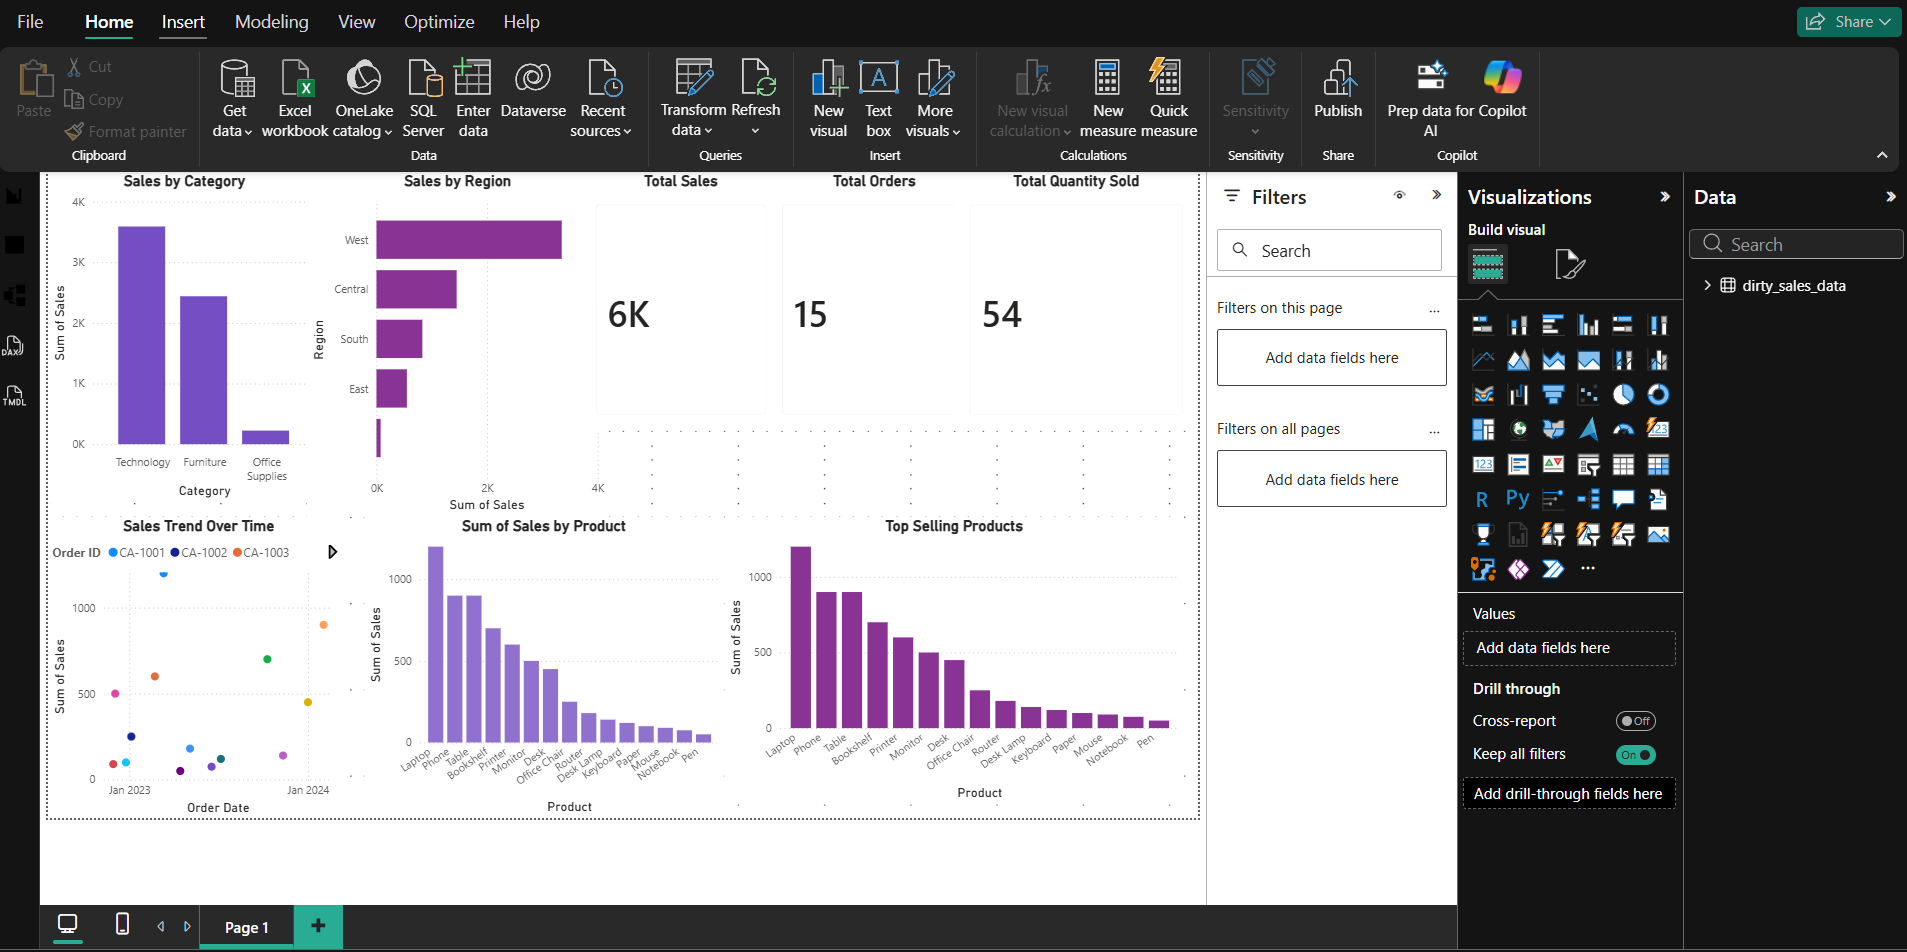

This screenshot's page, from the dashboard's own definition file:
{"tool":"powerbi","page":{"name":"Page 1","canvas":[1280,720],"ordinal":0},"visuals":[{"type":"clusteredColumnChart","title":"Sales by Category","fields":{"Y":["Sum(dirty_sales_data.Sales)"],"Category":["dirty_sales_data.Category"]},"box":[0,0,304,368],"z":0},{"type":"lineChart","title":"Sales Trend Over Time","fields":{"Y":["Sum(dirty_sales_data.Sales)"],"Series":["dirty_sales_data.Order ID"],"Category":["dirty_sales_data.Order Date"]},"box":[0,384,336,336],"z":1000},{"type":"clusteredColumnChart","fields":{"Y":["Sum(dirty_sales_data.Sales)"],"Category":["dirty_sales_data.Product"]},"box":[352,384,400,336],"z":2000},{"type":"clusteredColumnChart","title":"Top Selling Products","fields":{"Y":["Sum(dirty_sales_data.Sales)"],"Category":["dirty_sales_data.Product"]},"box":[752,384,512,320],"z":3000},{"type":"clusteredBarChart","title":"Sales by Region","fields":{"Category":["dirty_sales_data.Region"],"Y":["Sum(dirty_sales_data.Sales)"]},"box":[288,0,336,384],"z":4000},{"type":"cardVisual","title":"Total Sales","fields":{"Data":["Sum(dirty_sales_data.Sales)"]},"box":[592,0,224,288],"z":5000},{"type":"cardVisual","title":"Total Orders","fields":{"Data":["Count(dirty_sales_data.Order ID)"]},"box":[800,0,240,288],"z":6000},{"type":"cardVisual","title":"Total Quantity Sold","fields":{"Data":["Sum(dirty_sales_data.Quantity)"]},"box":[1008,0,272,288],"z":7000}]}

Visuals, with their boxes on the page's 1280x720 design canvas (x1, y1, x2, y2). These are canvas units, not pixel positions in the 1907x952 screenshot, which may show the page scaled, cropped or inside an application window:
"Sales by Category" clusteredColumnChart: l=0, t=0, r=304, b=368
"Sales Trend Over Time" lineChart: l=0, t=384, r=336, b=720
clusteredColumnChart - Sum(dirty_sales_data.Sales) x dirty_sales_data.Product: l=352, t=384, r=752, b=720
"Top Selling Products" clusteredColumnChart: l=752, t=384, r=1264, b=704
"Sales by Region" clusteredBarChart: l=288, t=0, r=624, b=384
"Total Sales" cardVisual: l=592, t=0, r=816, b=288
"Total Orders" cardVisual: l=800, t=0, r=1040, b=288
"Total Quantity Sold" cardVisual: l=1008, t=0, r=1280, b=288
